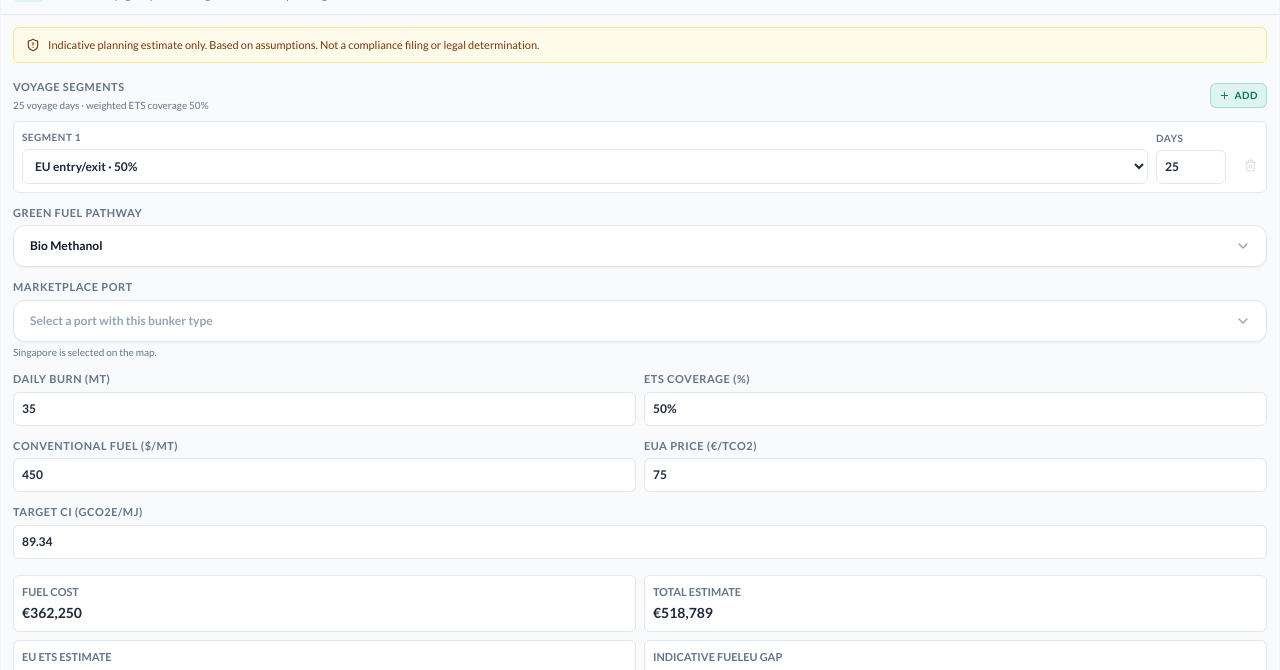
ComplianceEstimatorCard › announces recalculated results when voyage assumptions change
Check: the text "€362,250" is shown, box [22,604,82,621]
Check: the text "€518,789" is shown, box [653,604,713,621]
Step 1. Replace the text in the number field labelled "Days" with "10" → x=1191, y=166, box [1156,150,1226,184]
(page scrolled)
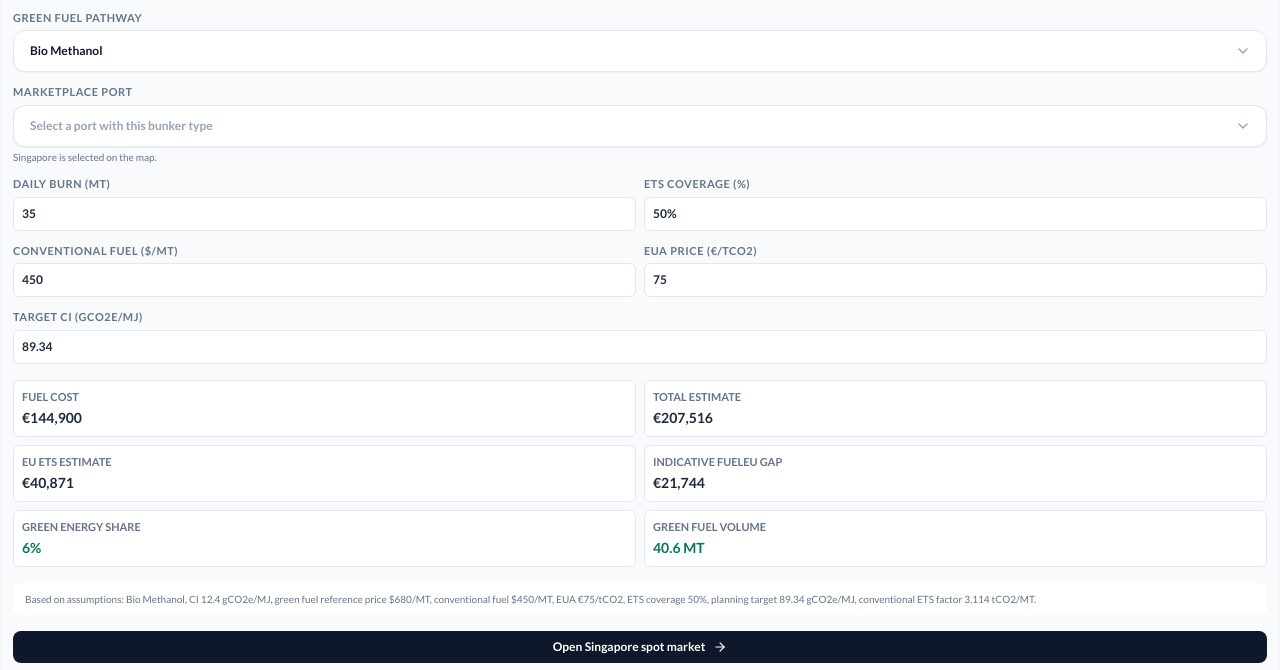
Check: the text "€40,871" is shown, box [22,474,74,491]
